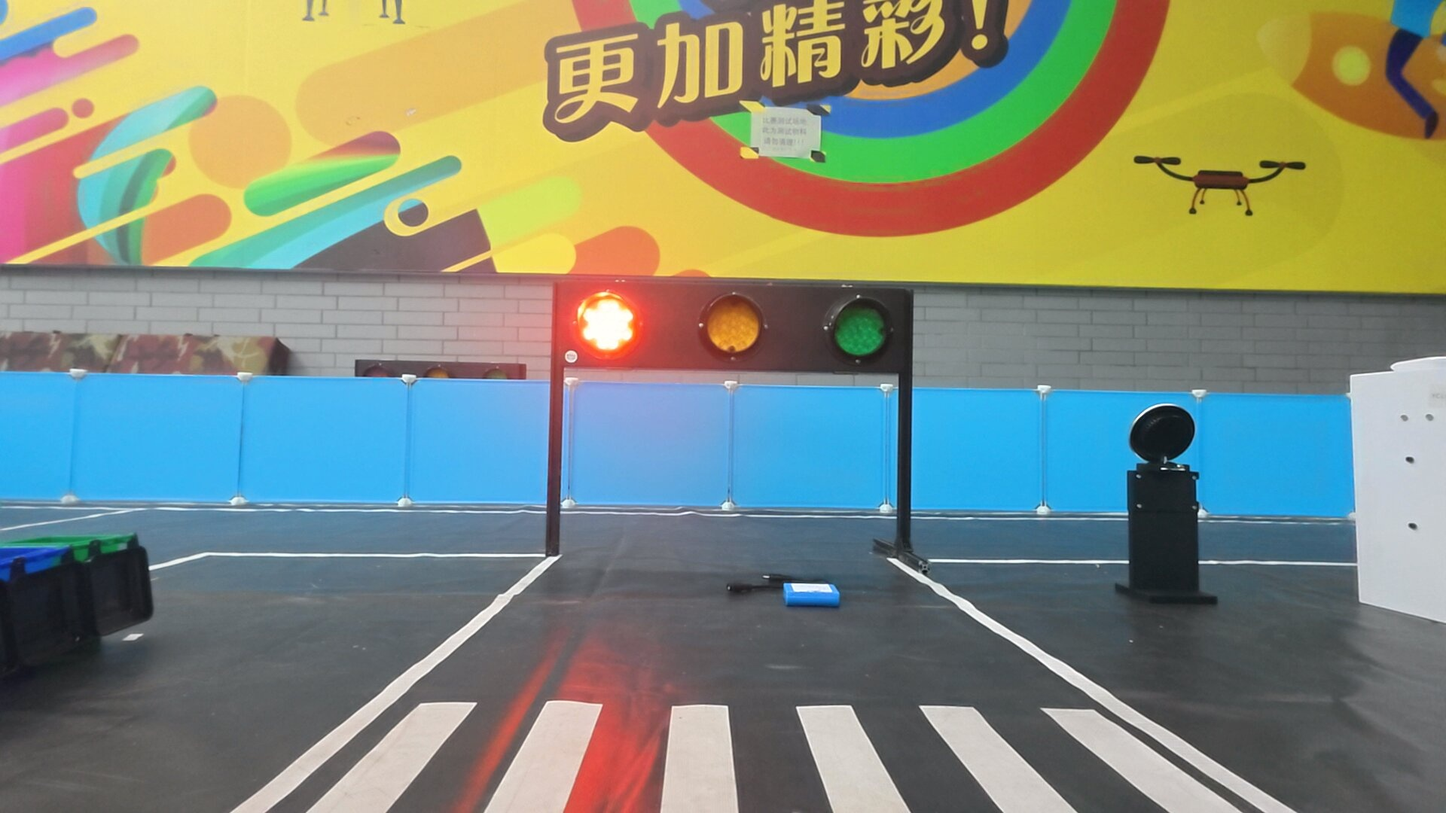stop: (571, 287, 641, 357)
